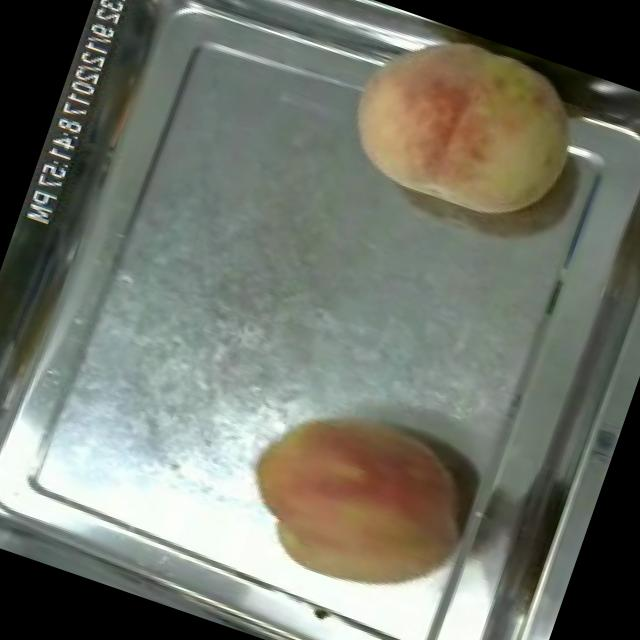Fruit: (320, 2, 602, 249), (219, 378, 491, 624)
